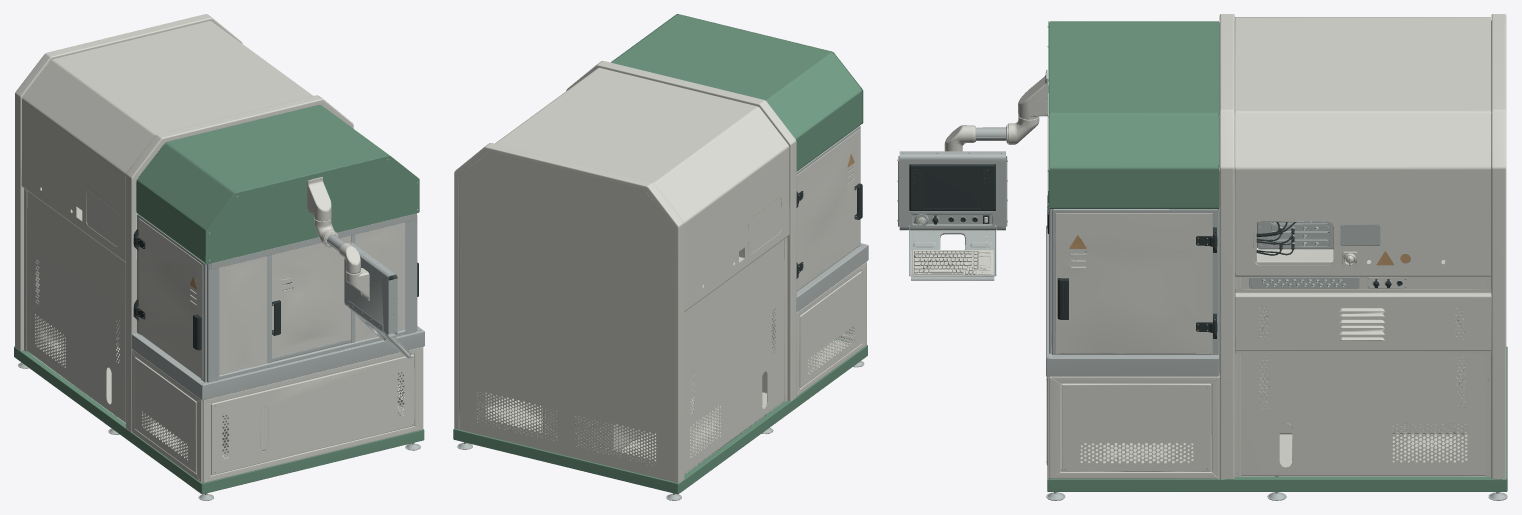
File: testingTool_brake_test_benches_a01.glb
3 views of the same model, side by side, from view 1: azimuth 30°, elevation 25°; view 2: azimuth 150°, elevation 25°; view 3: azimuth 270°, elevation 25° (orthographic). The views are drawn at different scales.
Bounding box in the file's own units: 1.54 × 1.99 × 2.95.
